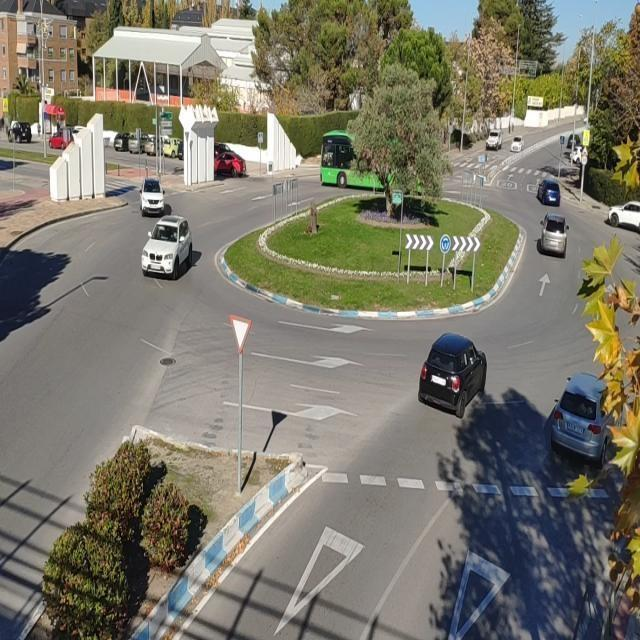Bus: (319, 128, 425, 194)
Car: (550, 370, 618, 466), (417, 332, 488, 419), (142, 215, 192, 280), (539, 213, 570, 257), (138, 177, 165, 213), (607, 201, 640, 230), (215, 151, 246, 179), (535, 178, 561, 206), (5, 122, 32, 142), (128, 132, 148, 154), (161, 138, 182, 157), (50, 127, 68, 149), (486, 130, 503, 152), (112, 132, 132, 150), (510, 137, 525, 154), (568, 146, 582, 164)
